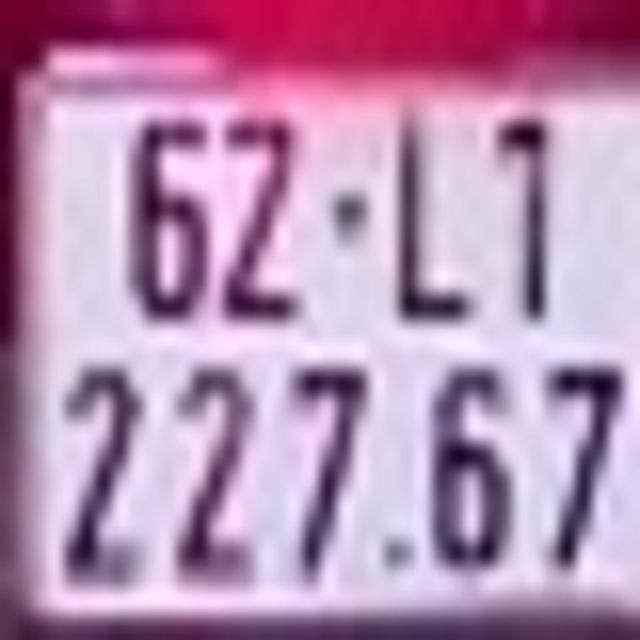1: (494, 109, 558, 323)
2: (59, 362, 144, 587), (173, 362, 257, 583), (222, 112, 303, 322)
6: (430, 361, 513, 573), (131, 112, 211, 321)
7: (539, 357, 626, 574), (287, 359, 371, 582)
L: (390, 102, 477, 323)
